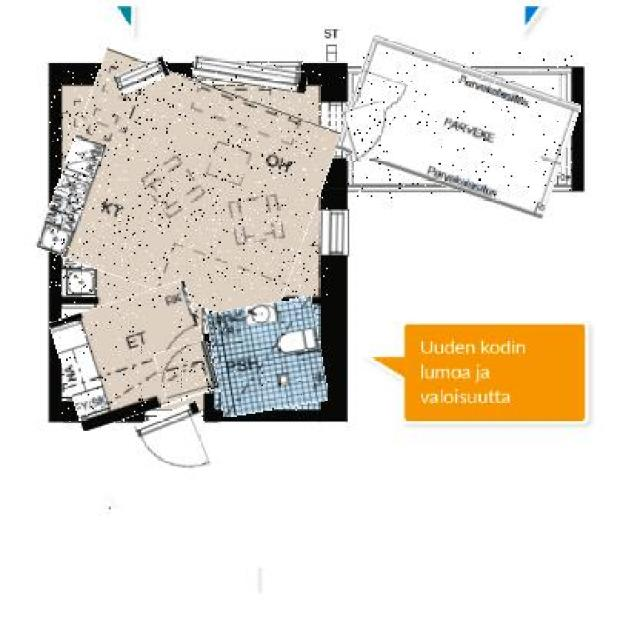door: (140, 406, 215, 485), (157, 343, 217, 399), (348, 102, 397, 160)
window: (194, 60, 308, 91), (114, 60, 169, 89), (318, 211, 348, 255)
zone: (49, 66, 329, 314), (341, 52, 574, 203), (57, 289, 212, 422), (209, 302, 325, 412)
